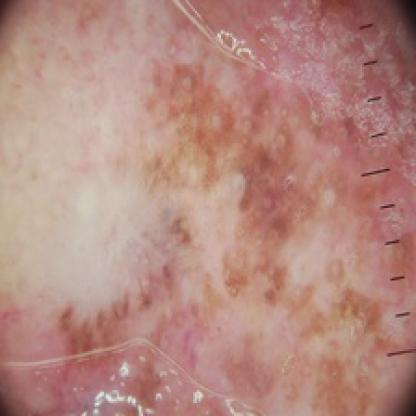malignant: (21, 2, 414, 407)
